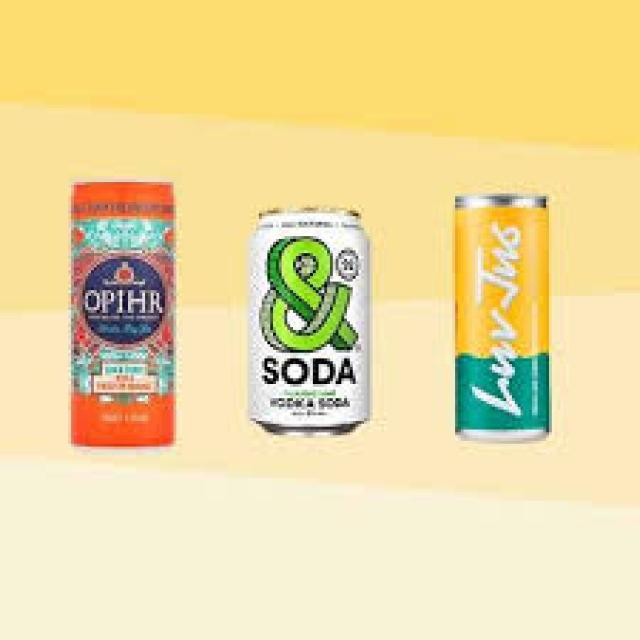Cans: (54, 168, 191, 455), (242, 196, 381, 438), (444, 182, 560, 449)
